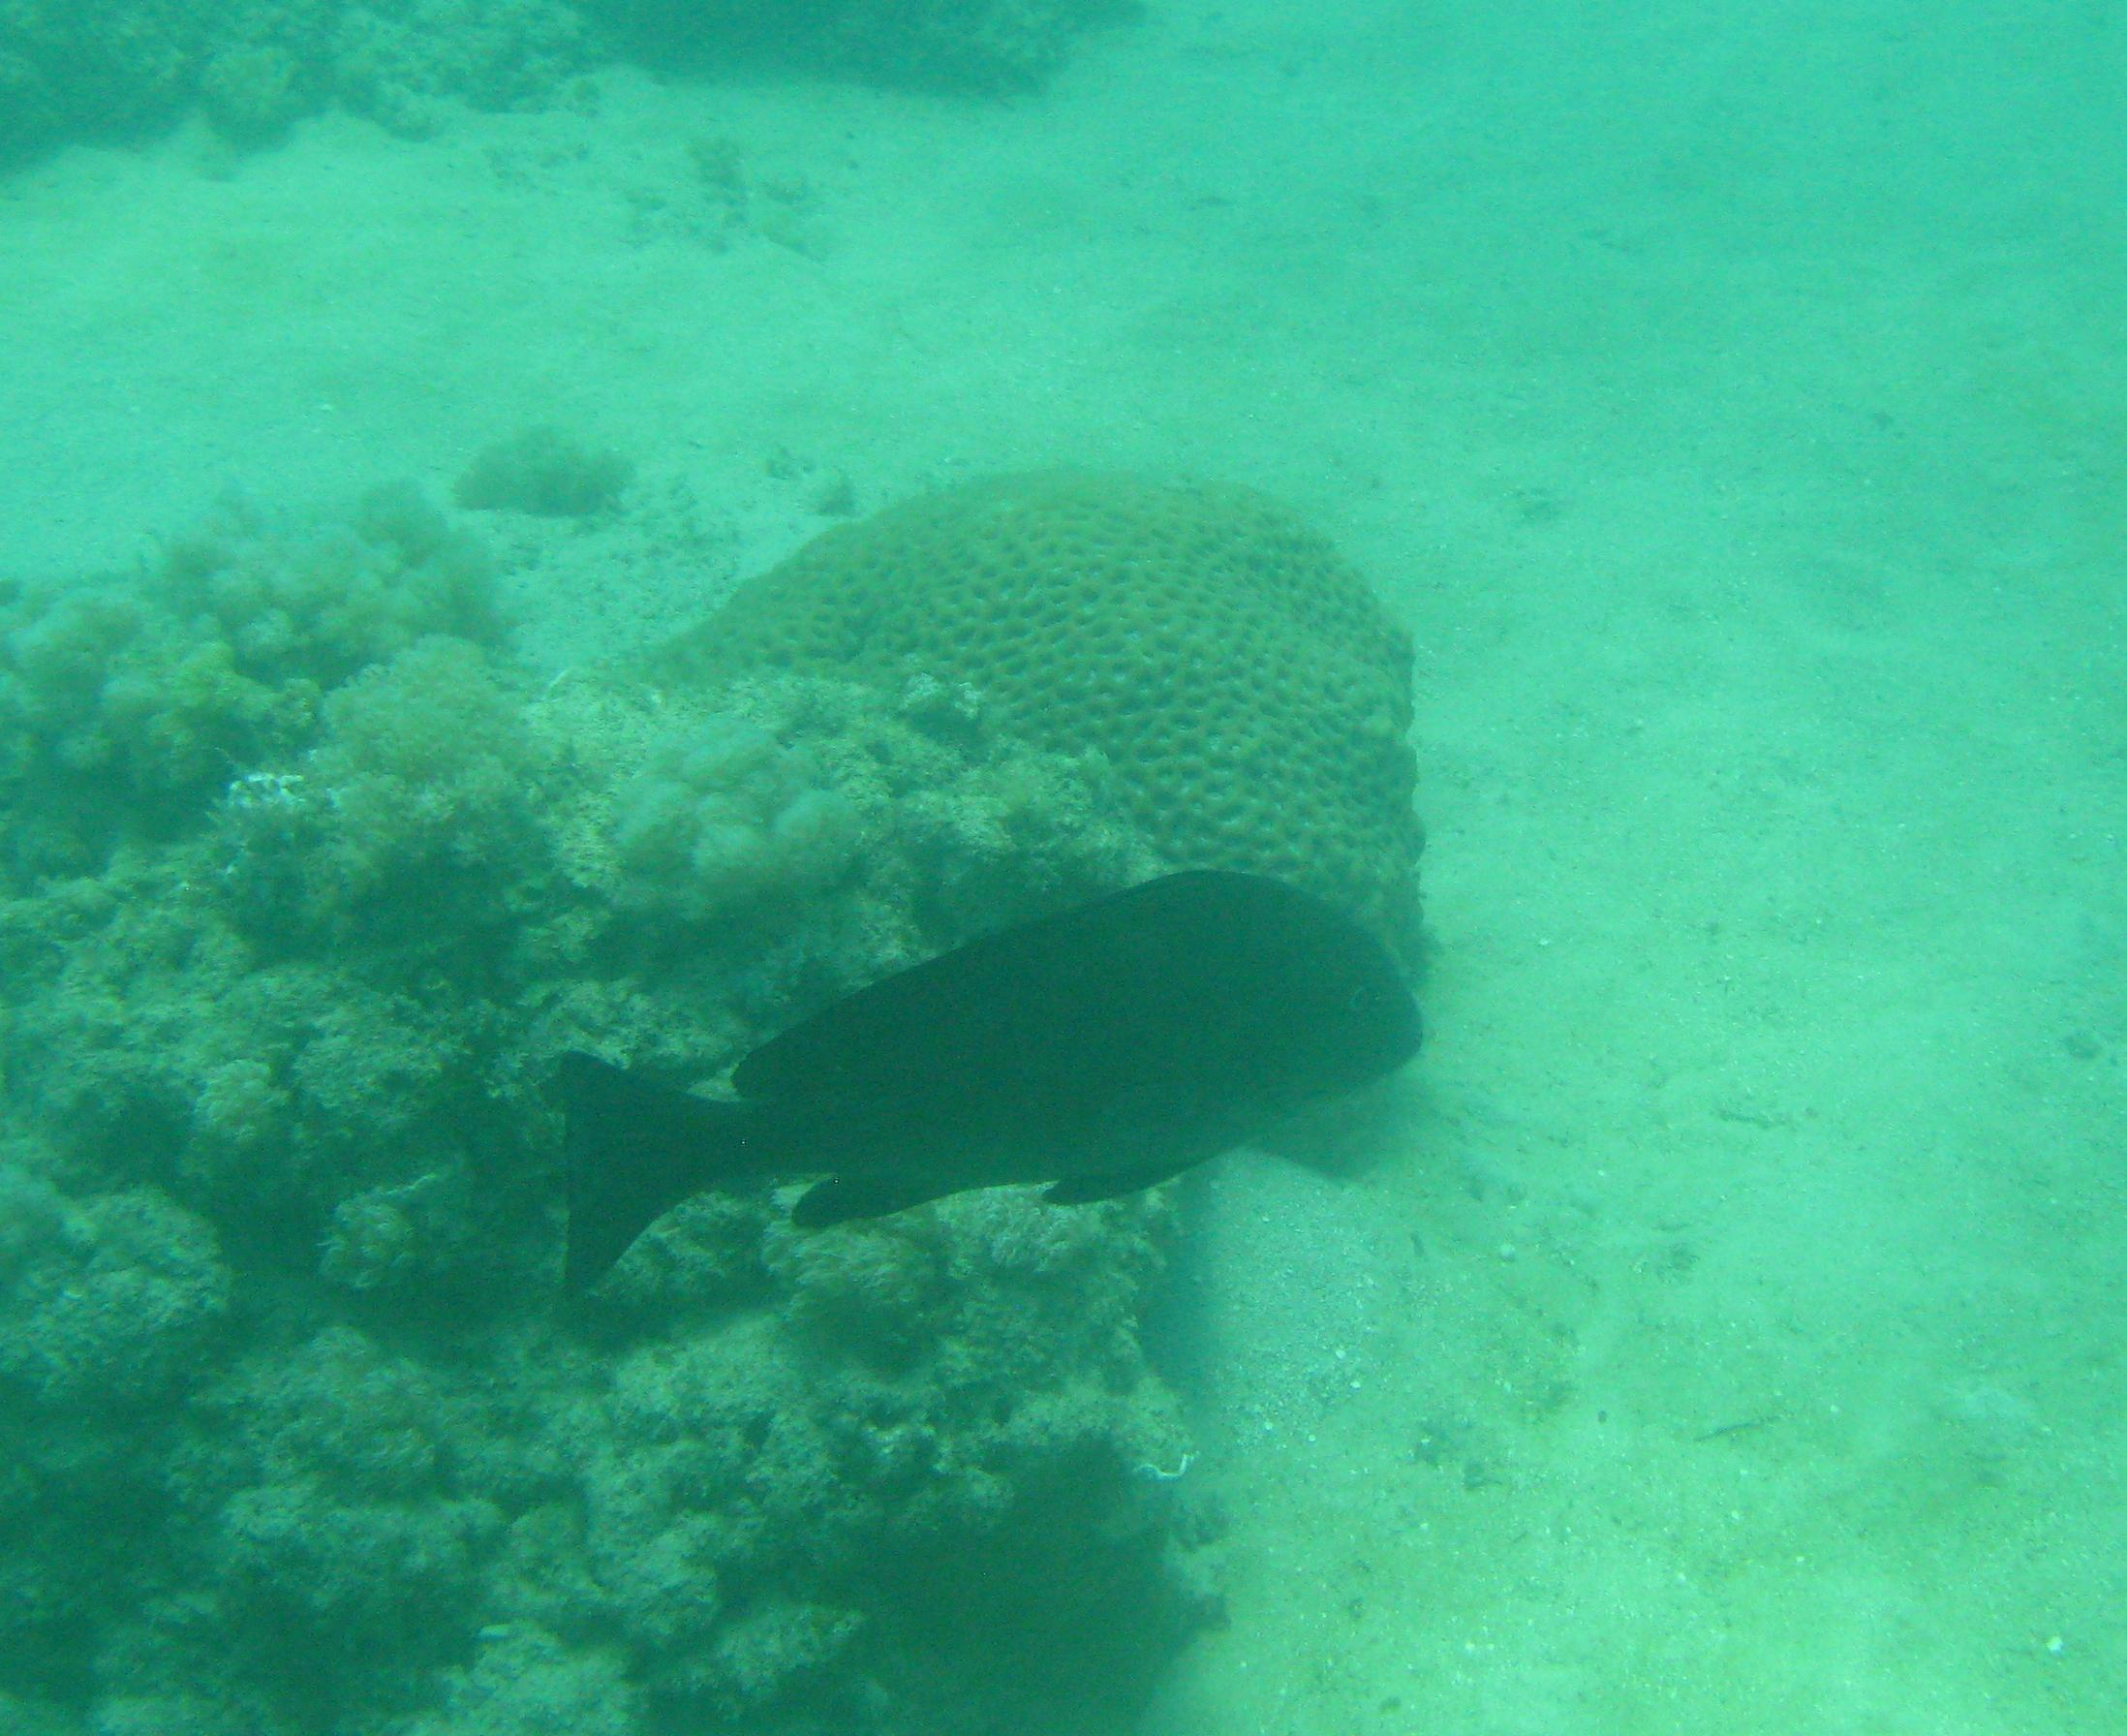Fish: (518, 843, 1452, 1301)
